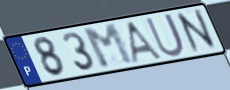3: (63, 31, 97, 72)
8: (33, 36, 67, 78)
A: (126, 20, 165, 65)
M: (81, 22, 137, 71)
N: (173, 7, 220, 56)
U: (143, 12, 186, 59)
